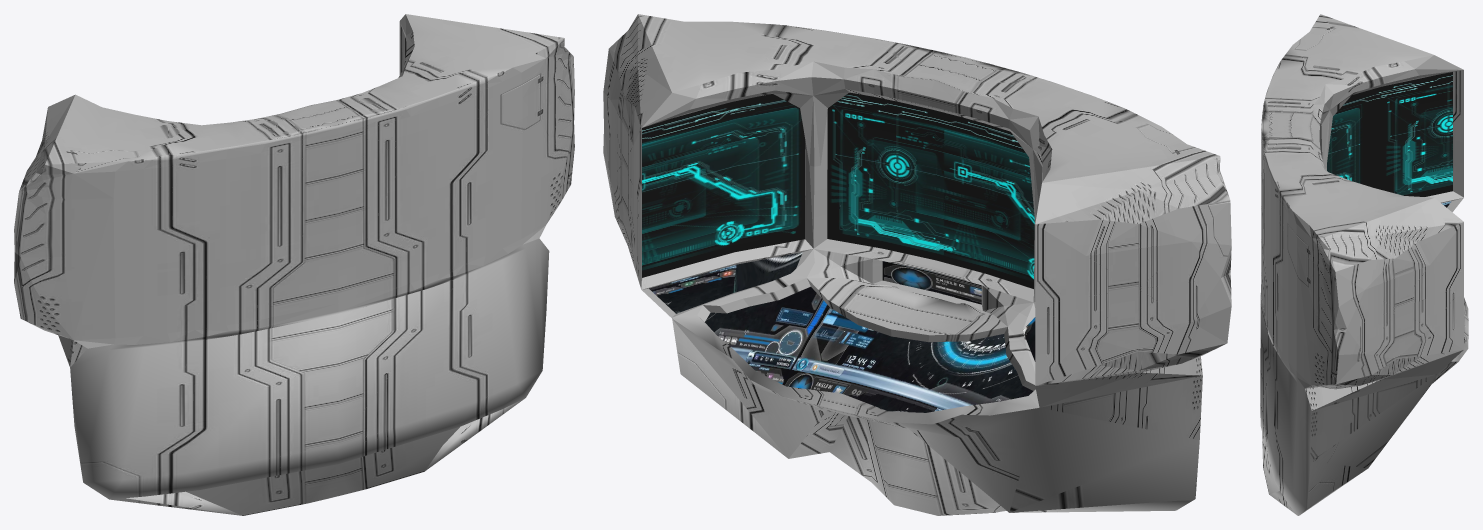
Rendered from chair-transformed.glb.
3 renders of one model, left to right at view 1: azimuth 30°, elevation 25°; view 2: azimuth 150°, elevation 25°; view 3: azimuth 270°, elevation 25°, orthographic. The views are drawn at different scales.
Visible parts, largest first — view 1: MaterialFBXASC032FBXASC0352142150880; view 2: MaterialFBXASC032FBXASC0352142150880, MaterialFBXASC032FBXASC0352142148966, MaterialFBXASC032FBXASC0352142148017, MaterialFBXASC032FBXASC0352142148579; view 3: MaterialFBXASC032FBXASC0352142150880, MaterialFBXASC032FBXASC0352142148966.
Part boxes in pixels (bbox=[...]): MaterialFBXASC032FBXASC0352142150880: bbox=[14, 14, 574, 515]; MaterialFBXASC032FBXASC0352142150880: bbox=[603, 14, 1231, 515]; MaterialFBXASC032FBXASC0352142148966: bbox=[642, 92, 1034, 288]; MaterialFBXASC032FBXASC0352142148017: bbox=[705, 286, 1033, 412]; MaterialFBXASC032FBXASC0352142148579: bbox=[649, 252, 1035, 361]; MaterialFBXASC032FBXASC0352142150880: bbox=[1260, 14, 1468, 515]; MaterialFBXASC032FBXASC0352142148966: bbox=[1327, 72, 1452, 196].
Size of the model in its own units: 26.48 by 16.75 by 9.61.
4 materials, 4 textured.
